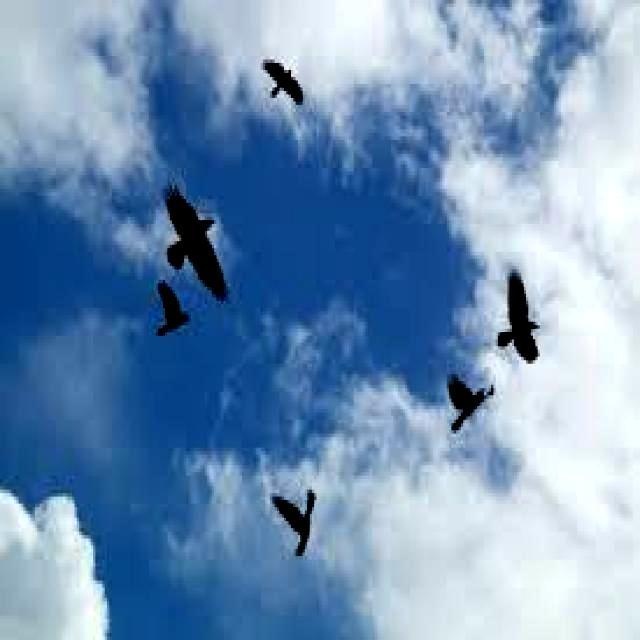bird: (148, 168, 258, 312), (136, 272, 204, 360), (266, 478, 332, 562), (491, 266, 546, 364), (432, 367, 499, 438), (253, 52, 306, 108)
